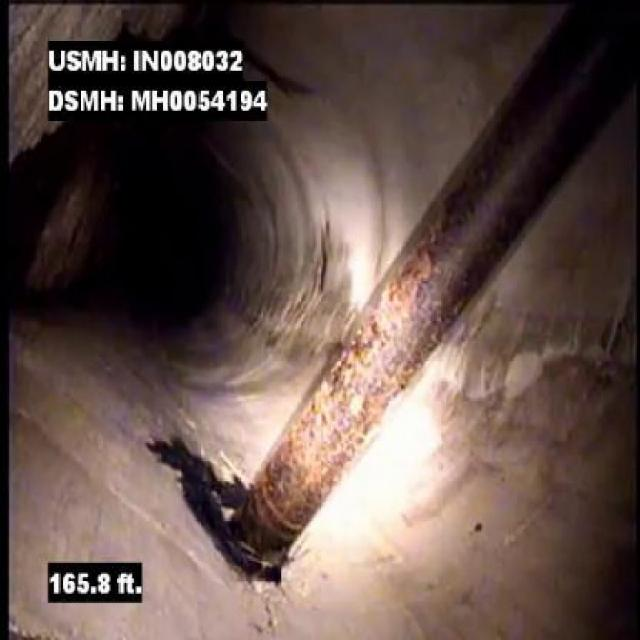Utility intrusion: (228, 217, 542, 585), (411, 6, 638, 212)
